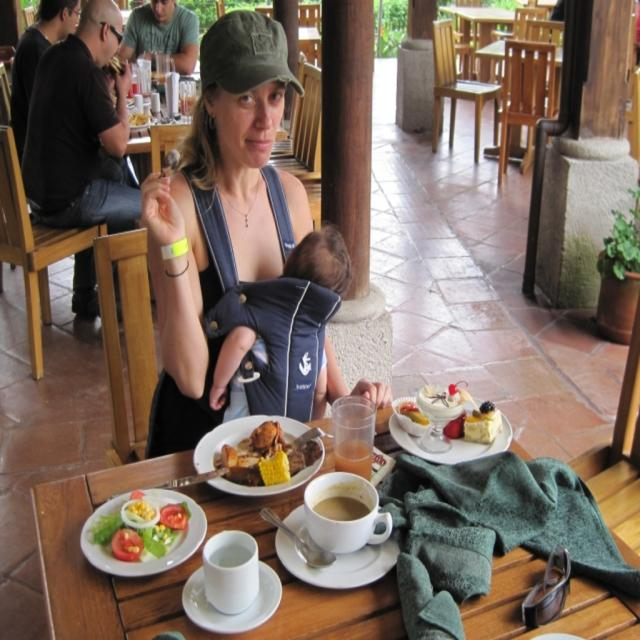Coffee: (320, 497, 368, 523)
Tea: (316, 494, 372, 520)
